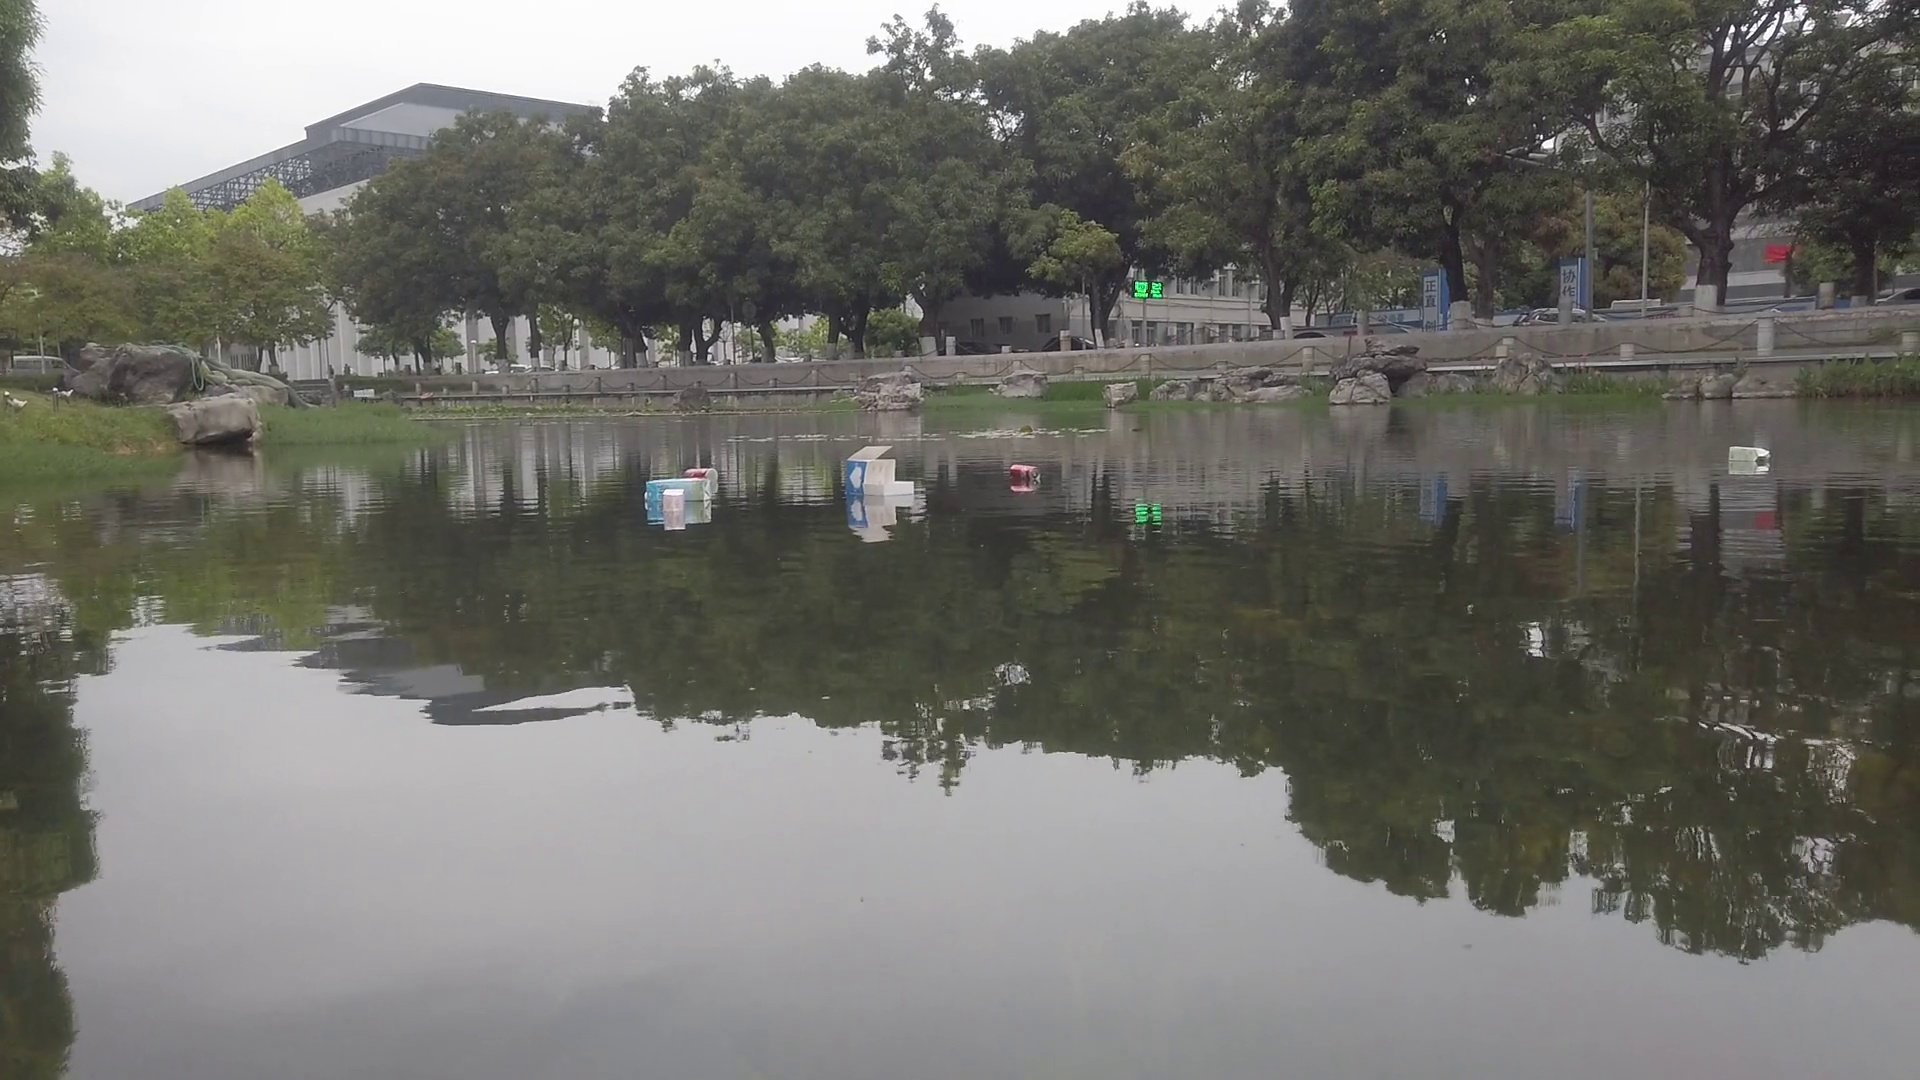bottle: (1007, 462, 1040, 481), (684, 467, 717, 485)
carton: (847, 442, 916, 498), (644, 476, 711, 506), (1726, 443, 1776, 465), (663, 488, 686, 513)
